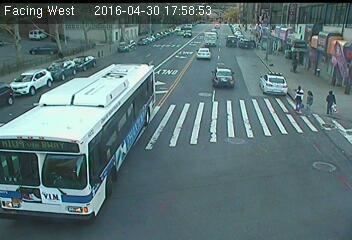neg: (1, 95, 50, 160), (67, 53, 115, 117), (205, 92, 241, 140), (170, 67, 203, 111), (264, 166, 296, 209), (147, 145, 178, 186), (320, 27, 347, 63), (216, 28, 240, 61)
pos: (320, 88, 345, 121), (284, 81, 308, 112), (304, 89, 321, 111), (289, 51, 304, 71)
